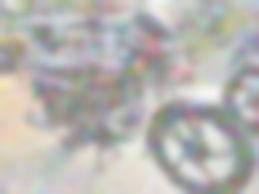Vehicle: (16, 10, 256, 194), (215, 24, 258, 134)
